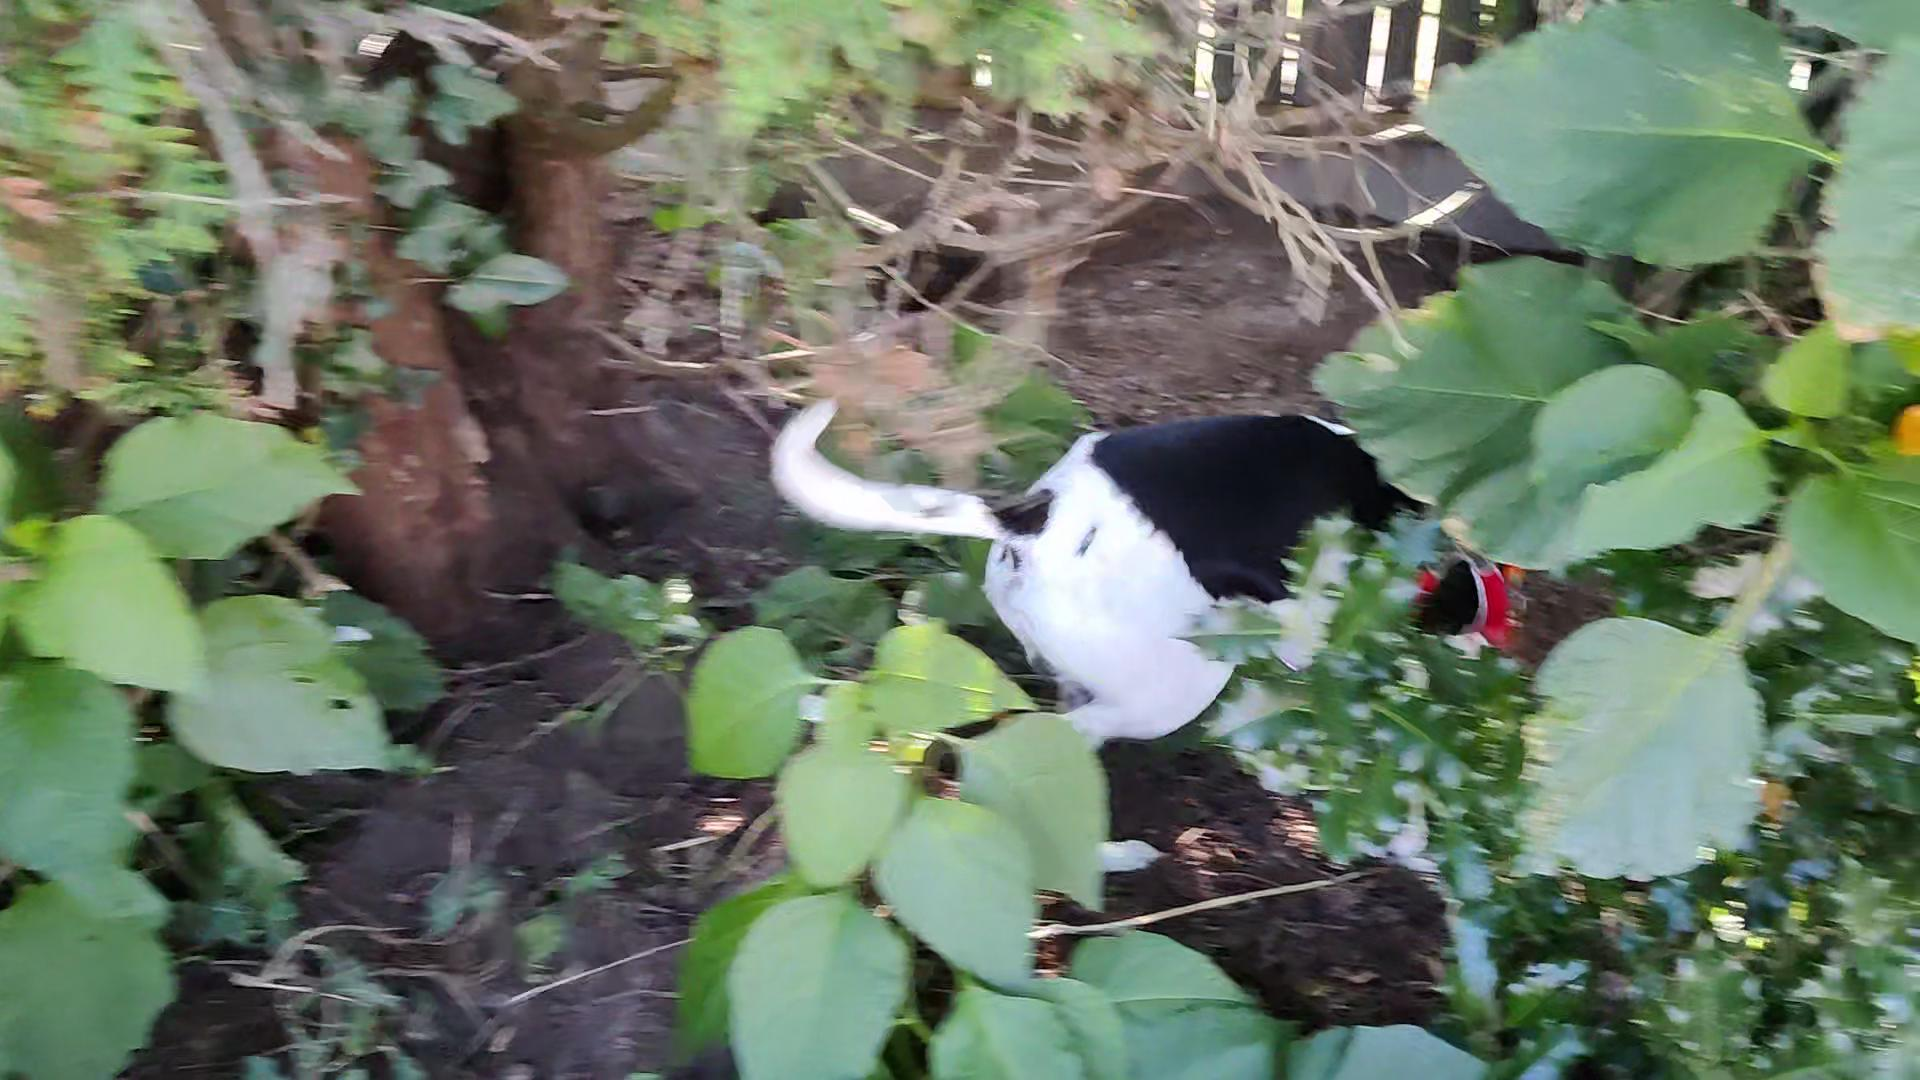Dog: (753, 356, 1584, 906)
